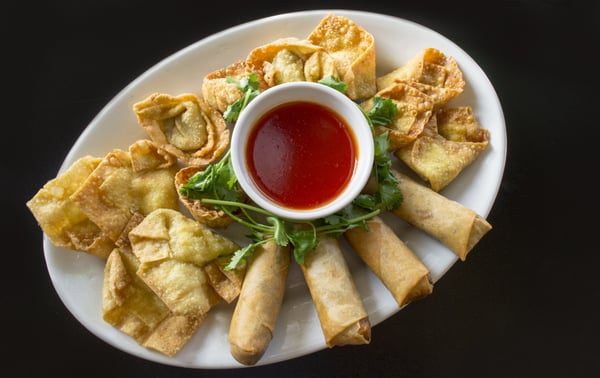sushi: (231, 80, 375, 224)
